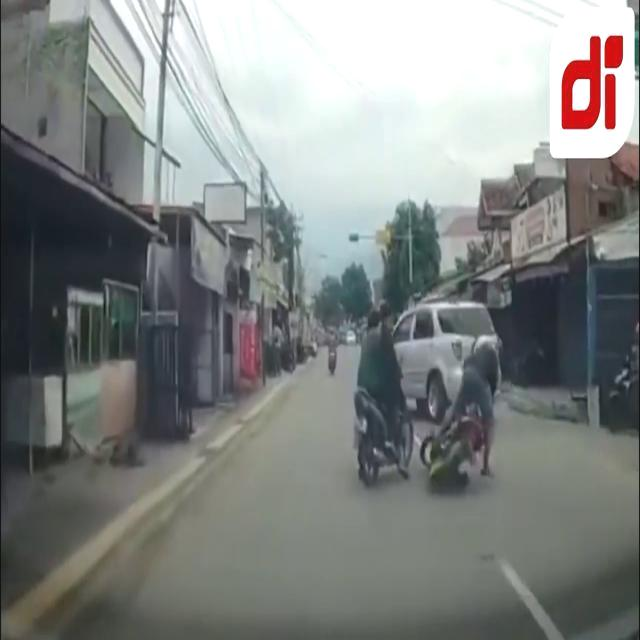accident: (351, 298, 501, 492)
